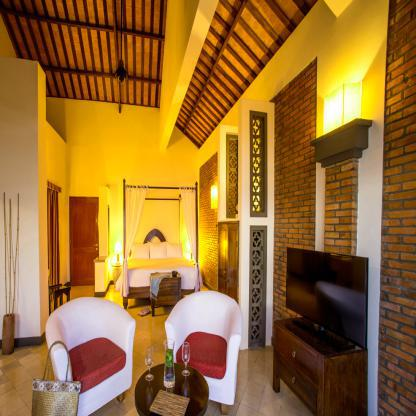door: (69, 197, 99, 287)
hinged: (70, 275, 72, 280), (70, 238, 71, 244), (70, 201, 70, 207)
lever: (93, 244, 98, 246)
